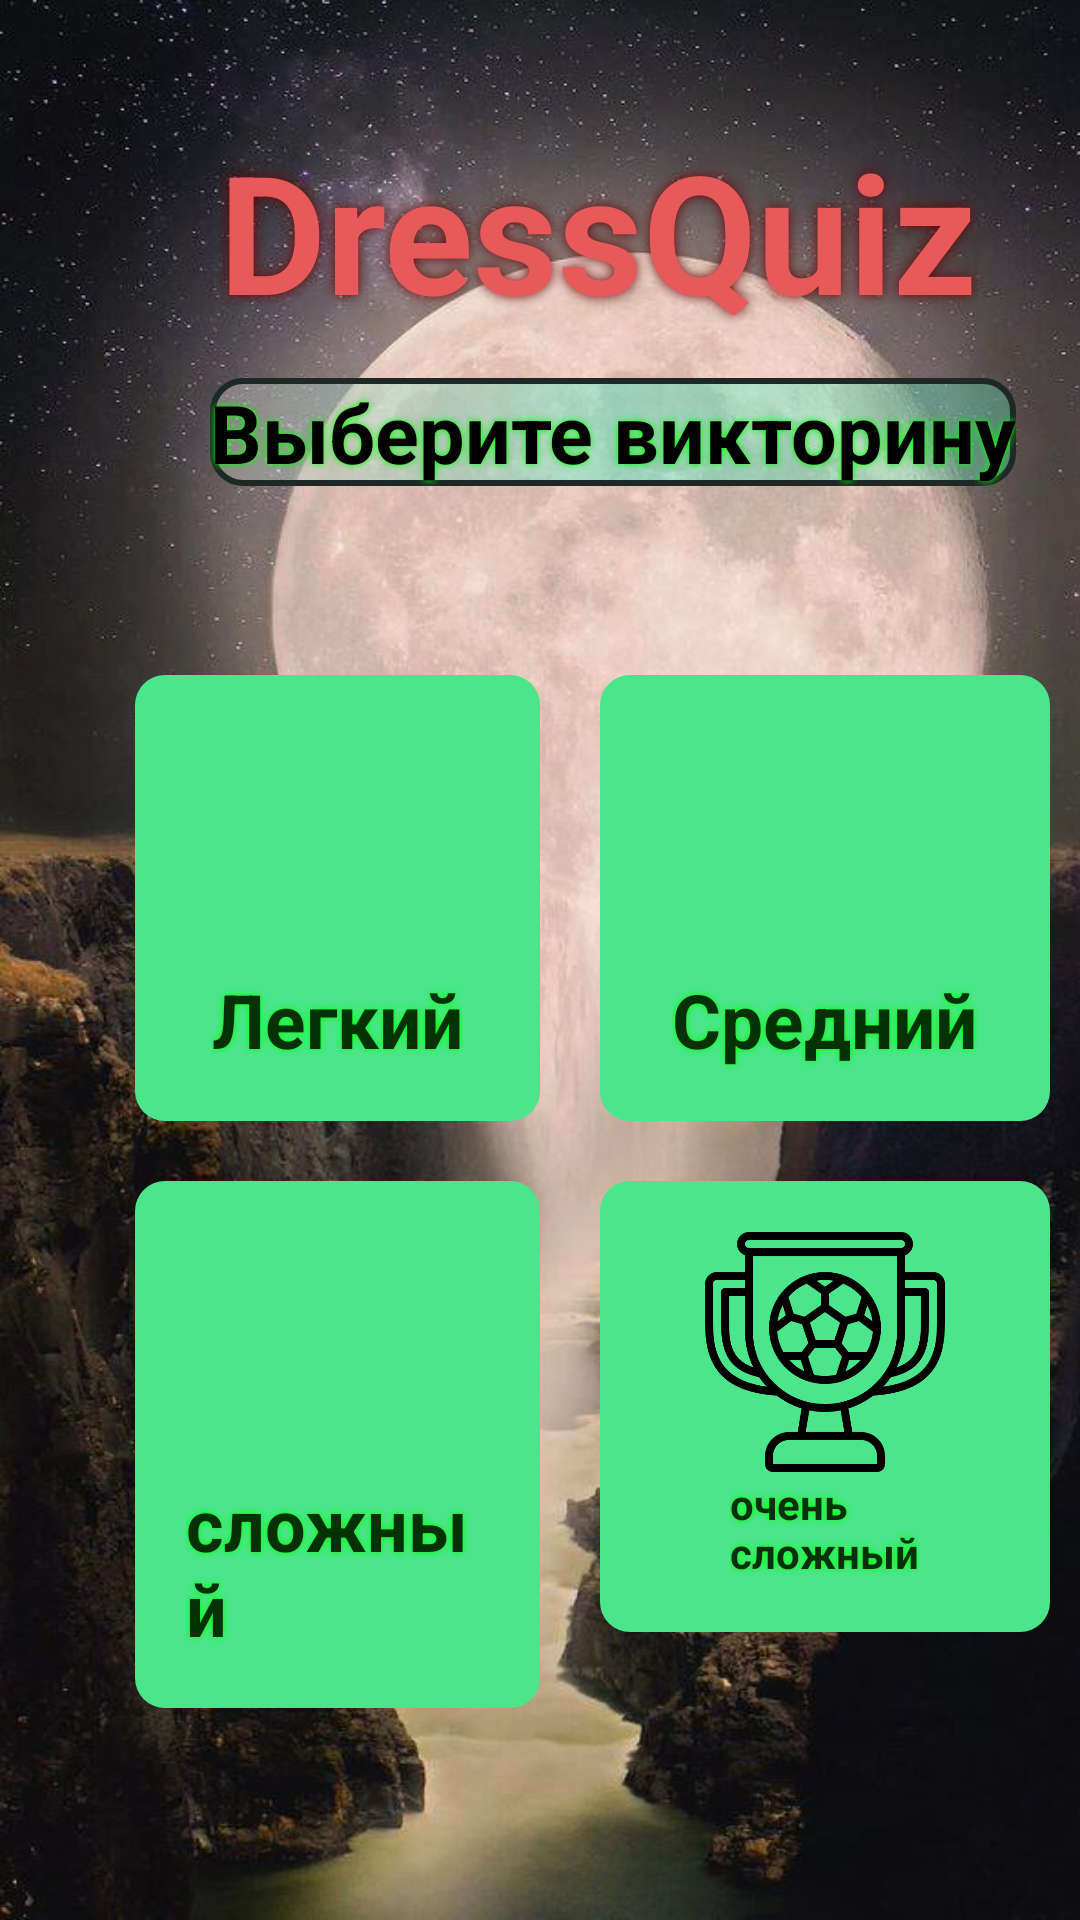

Icon click points for this 1080*1920 phone screenshot, format [x,y]:
sport: [825,1352]
